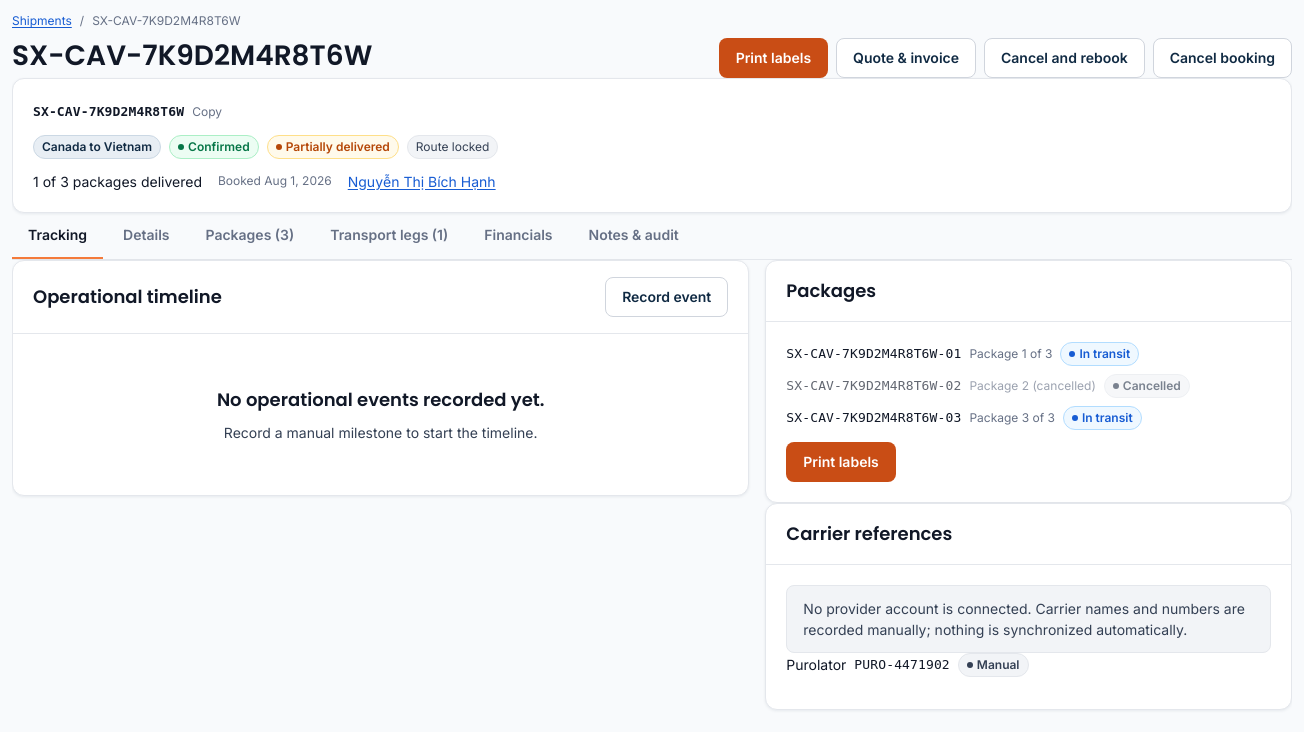
it: ShipmentDetailPage › shows package references, both measurement systems, and a cancelled package
What coordinates should you click on to do the following:
click the tab "Packages (3)"
I would click on:
 (250, 236)
Its box is top-left (190, 212), bottom-right (310, 258).
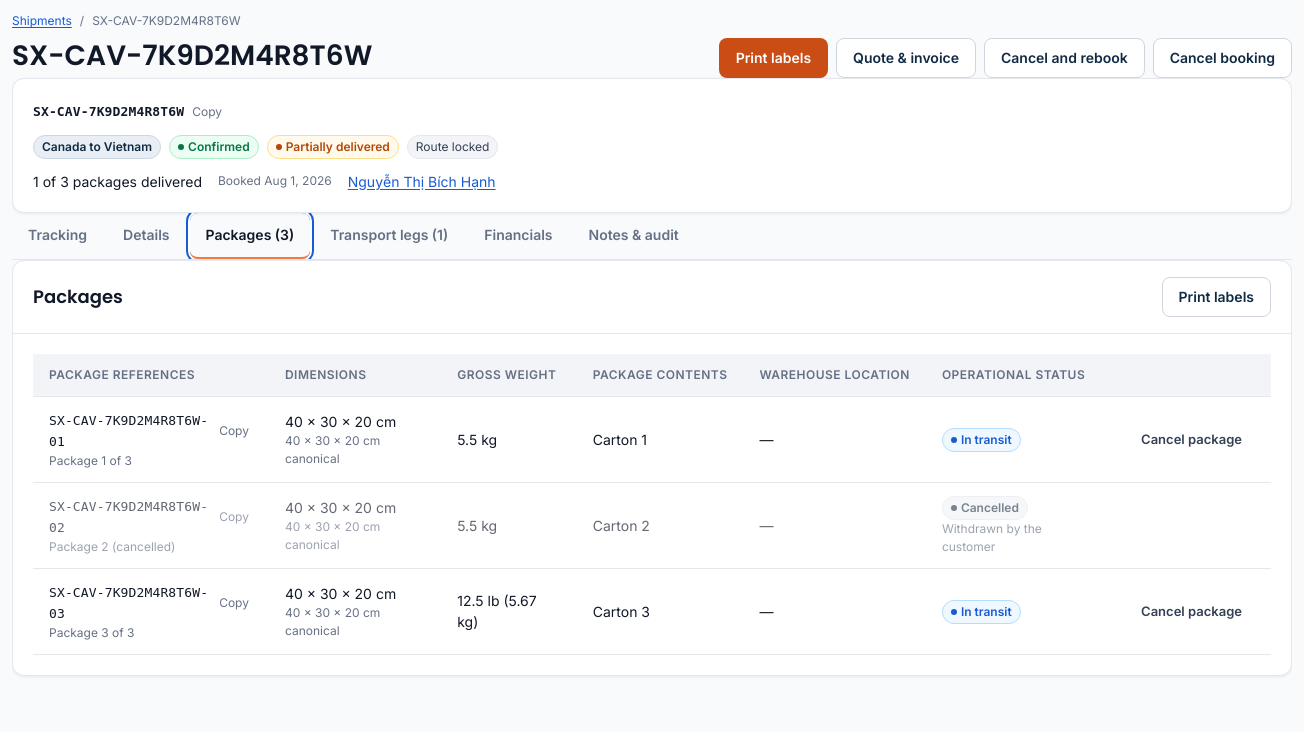
Check: the text "SX-CAV-7K9D2M4R8T6W-01" is shown, box top-left (49, 410), bottom-right (211, 452)
Check: the text "Withdrawn by the customer" is shown, box top-left (942, 520), bottom-right (1042, 554)
Check: the text "12.5 lb (5.67 kg)" is shown, box top-left (441, 568), bottom-right (577, 654)
